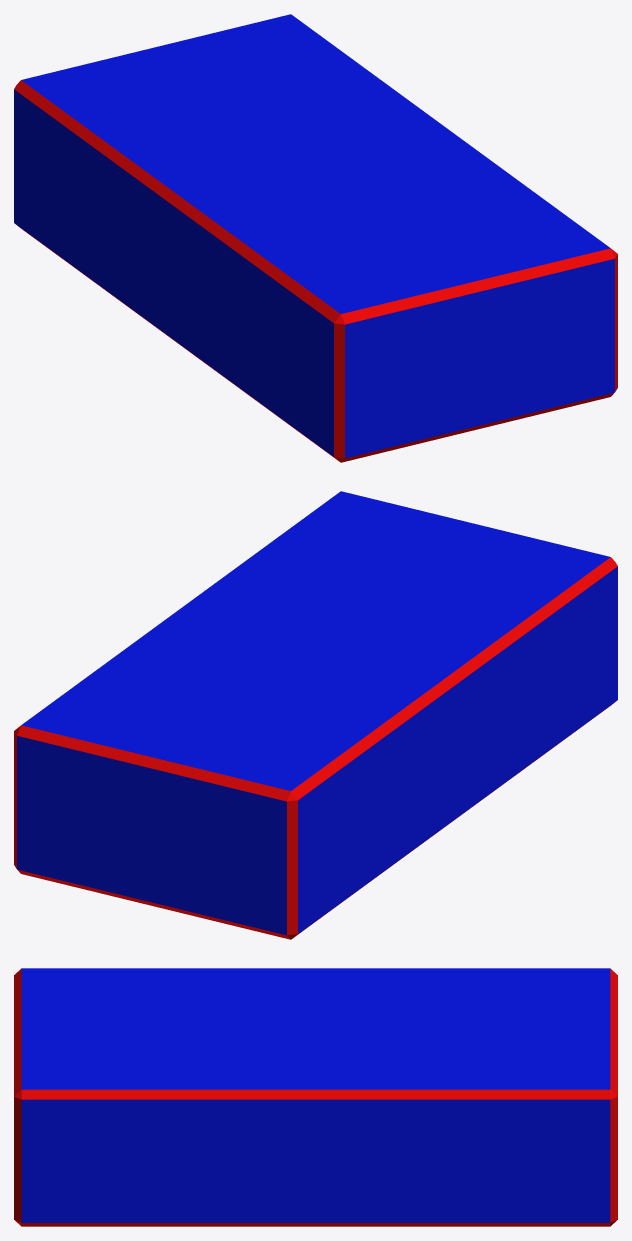
File: L10_HiddenMovingPlateform.fbx
3 views of the same model, one above another, from view 1: azimuth 30°, elevation 25°; view 2: azimuth 150°, elevation 25°; view 3: azimuth 270°, elevation 25° (orthographic). The views are drawn at different scales.
Visible parts, largest first — view 1: L10_HiddenMovingPlateform; view 2: L10_HiddenMovingPlateform; view 3: L10_HiddenMovingPlateform.
Part boxes in pixels (x1,y1,x2,y2): L10_HiddenMovingPlateform: (14, 14, 617, 462); L10_HiddenMovingPlateform: (14, 491, 617, 939); L10_HiddenMovingPlateform: (14, 968, 617, 1226).
Bounding box in the file's own units: 200 × 100 × 400.
